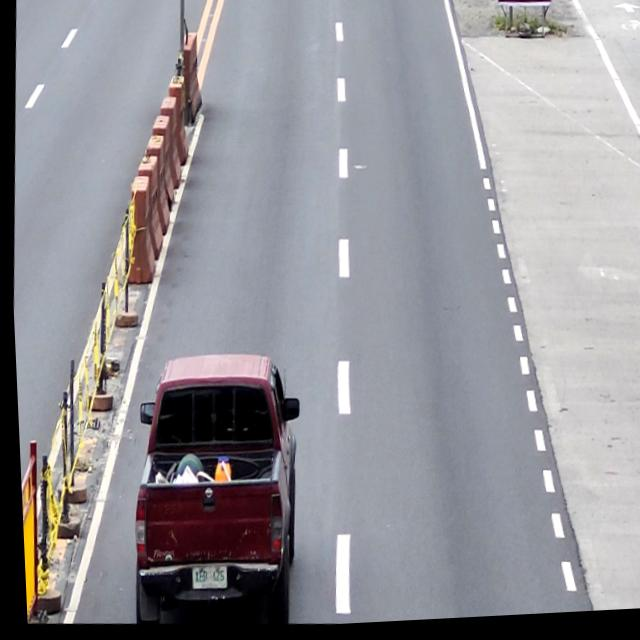Car: (117, 351, 307, 633)
License-Plate: (185, 566, 223, 592)
